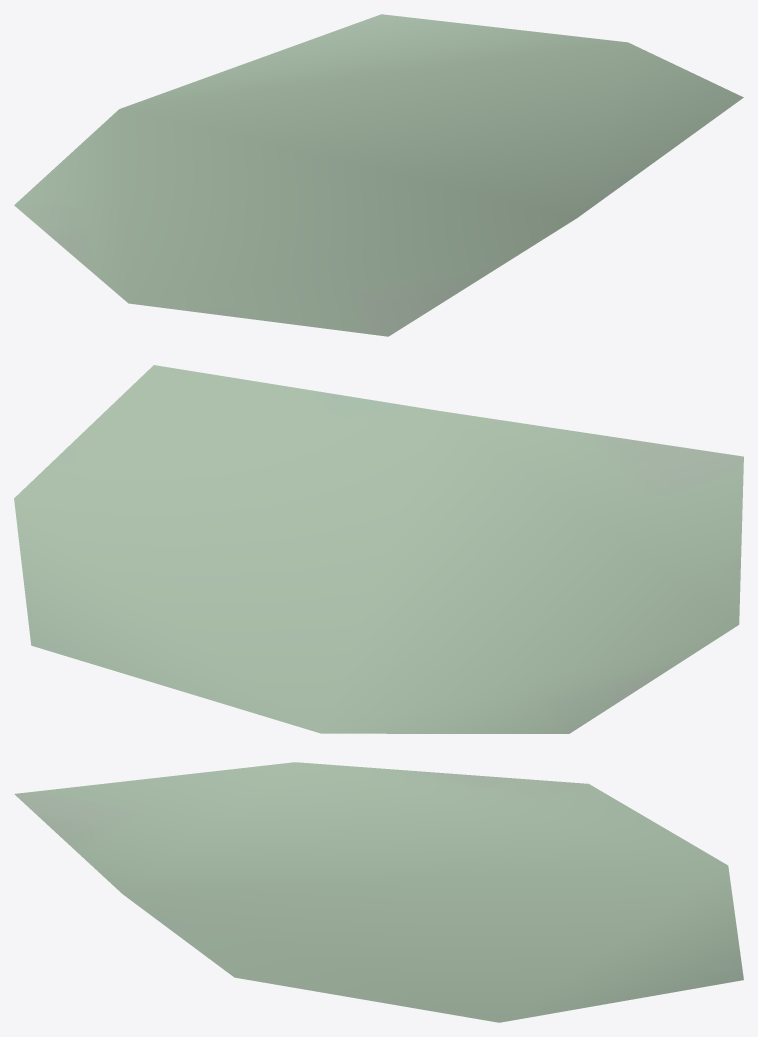
File: TROLLHOLE02_HOLECAP198.fbx
The picture shows the model from 3 angles, top to bottom: view 1: azimuth 30°, elevation 25°; view 2: azimuth 150°, elevation 25°; view 3: azimuth 270°, elevation 25°; orthographic projection. The views are drawn at different scales.
Visible parts, largest first — view 1: TROLLHOLE02_HOLECAP198; view 2: TROLLHOLE02_HOLECAP198; view 3: TROLLHOLE02_HOLECAP198.
Boxes of the visible parts, x1=… form: TROLLHOLE02_HOLECAP198: x1=14, y1=14, x2=743, y2=336; TROLLHOLE02_HOLECAP198: x1=14, y1=365, x2=743, y2=733; TROLLHOLE02_HOLECAP198: x1=14, y1=762, x2=743, y2=1022.
Bounding box in the file's own units: 13307 × 1974 × 13289.
1 material, 1 textured.
